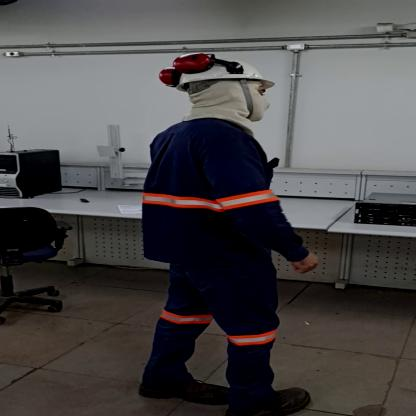Balaclava: (167, 84, 282, 129)
Capacete: (156, 53, 293, 87)
